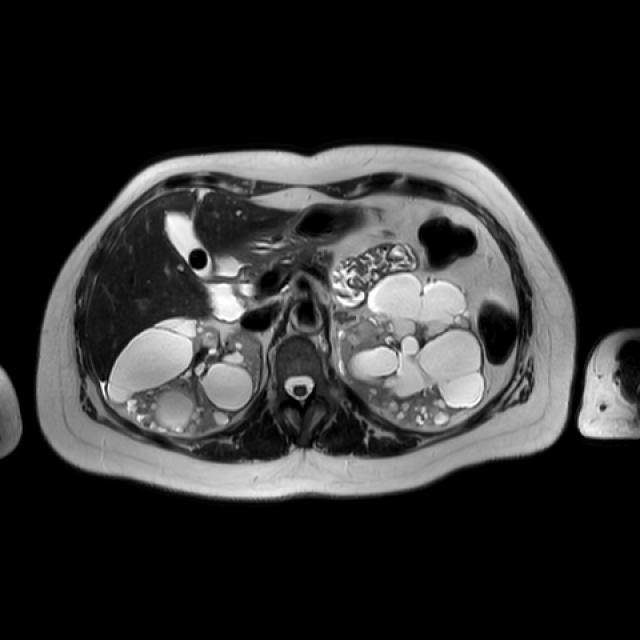sag: (103, 317, 264, 436)
sol: (335, 271, 487, 429)
